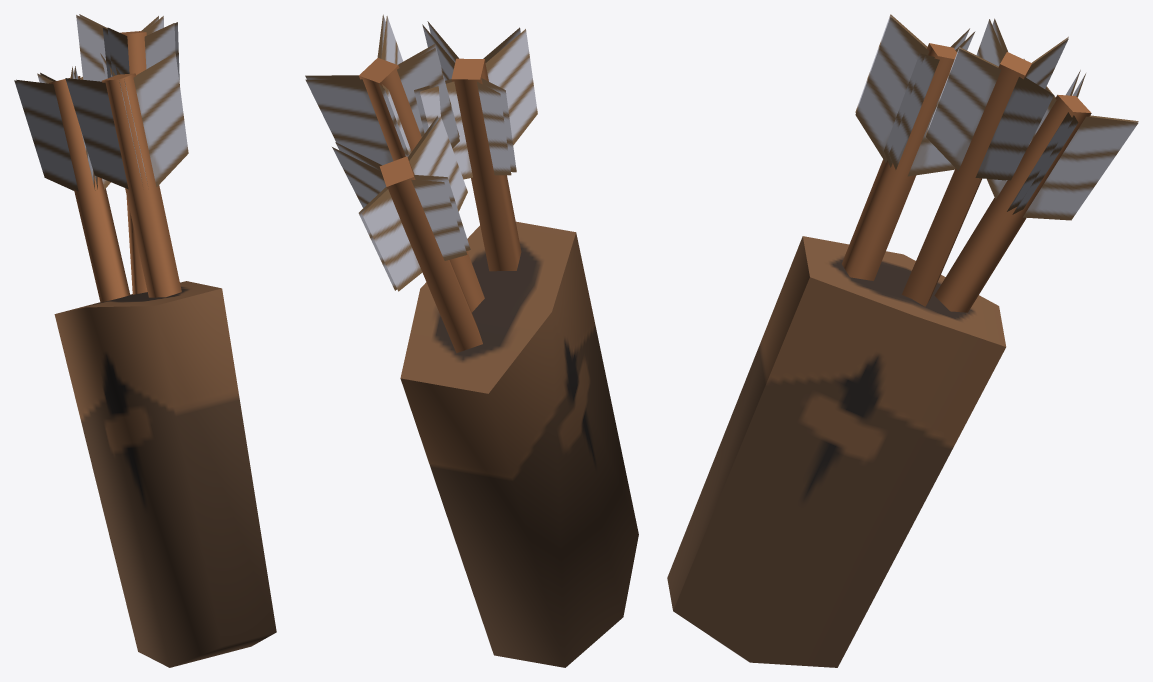
File: Back_Quiver_A.FBX
3 views of the same model, side by side, from view 1: azimuth 30°, elevation 25°; view 2: azimuth 150°, elevation 25°; view 3: azimuth 270°, elevation 25° (orthographic). The views are drawn at different scales.
Parts seen in each view (by area): view 1: quiver_A; view 2: quiver_A; view 3: quiver_A.
Part boxes in pixels (x1,y1,x2,y2): quiver_A: [14, 14, 276, 667]; quiver_A: [305, 14, 638, 667]; quiver_A: [667, 14, 1138, 667].
Size of the model in its own units: 10.43 by 39.67 by 26.46.
